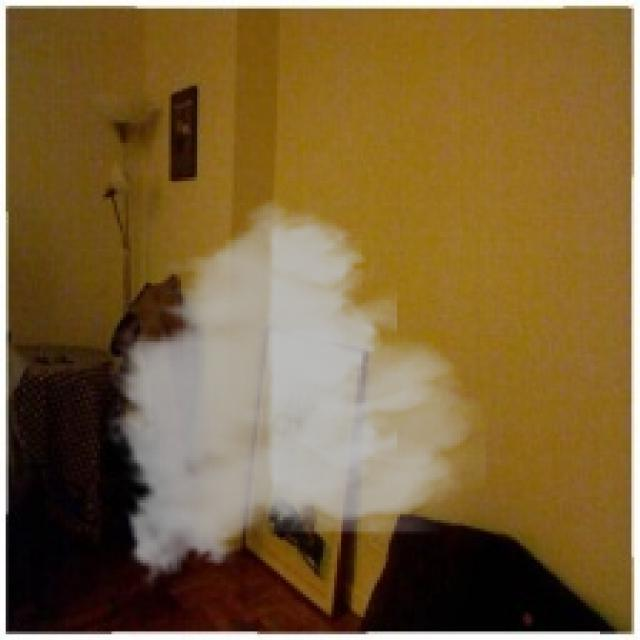Smoke: (103, 188, 486, 594)
